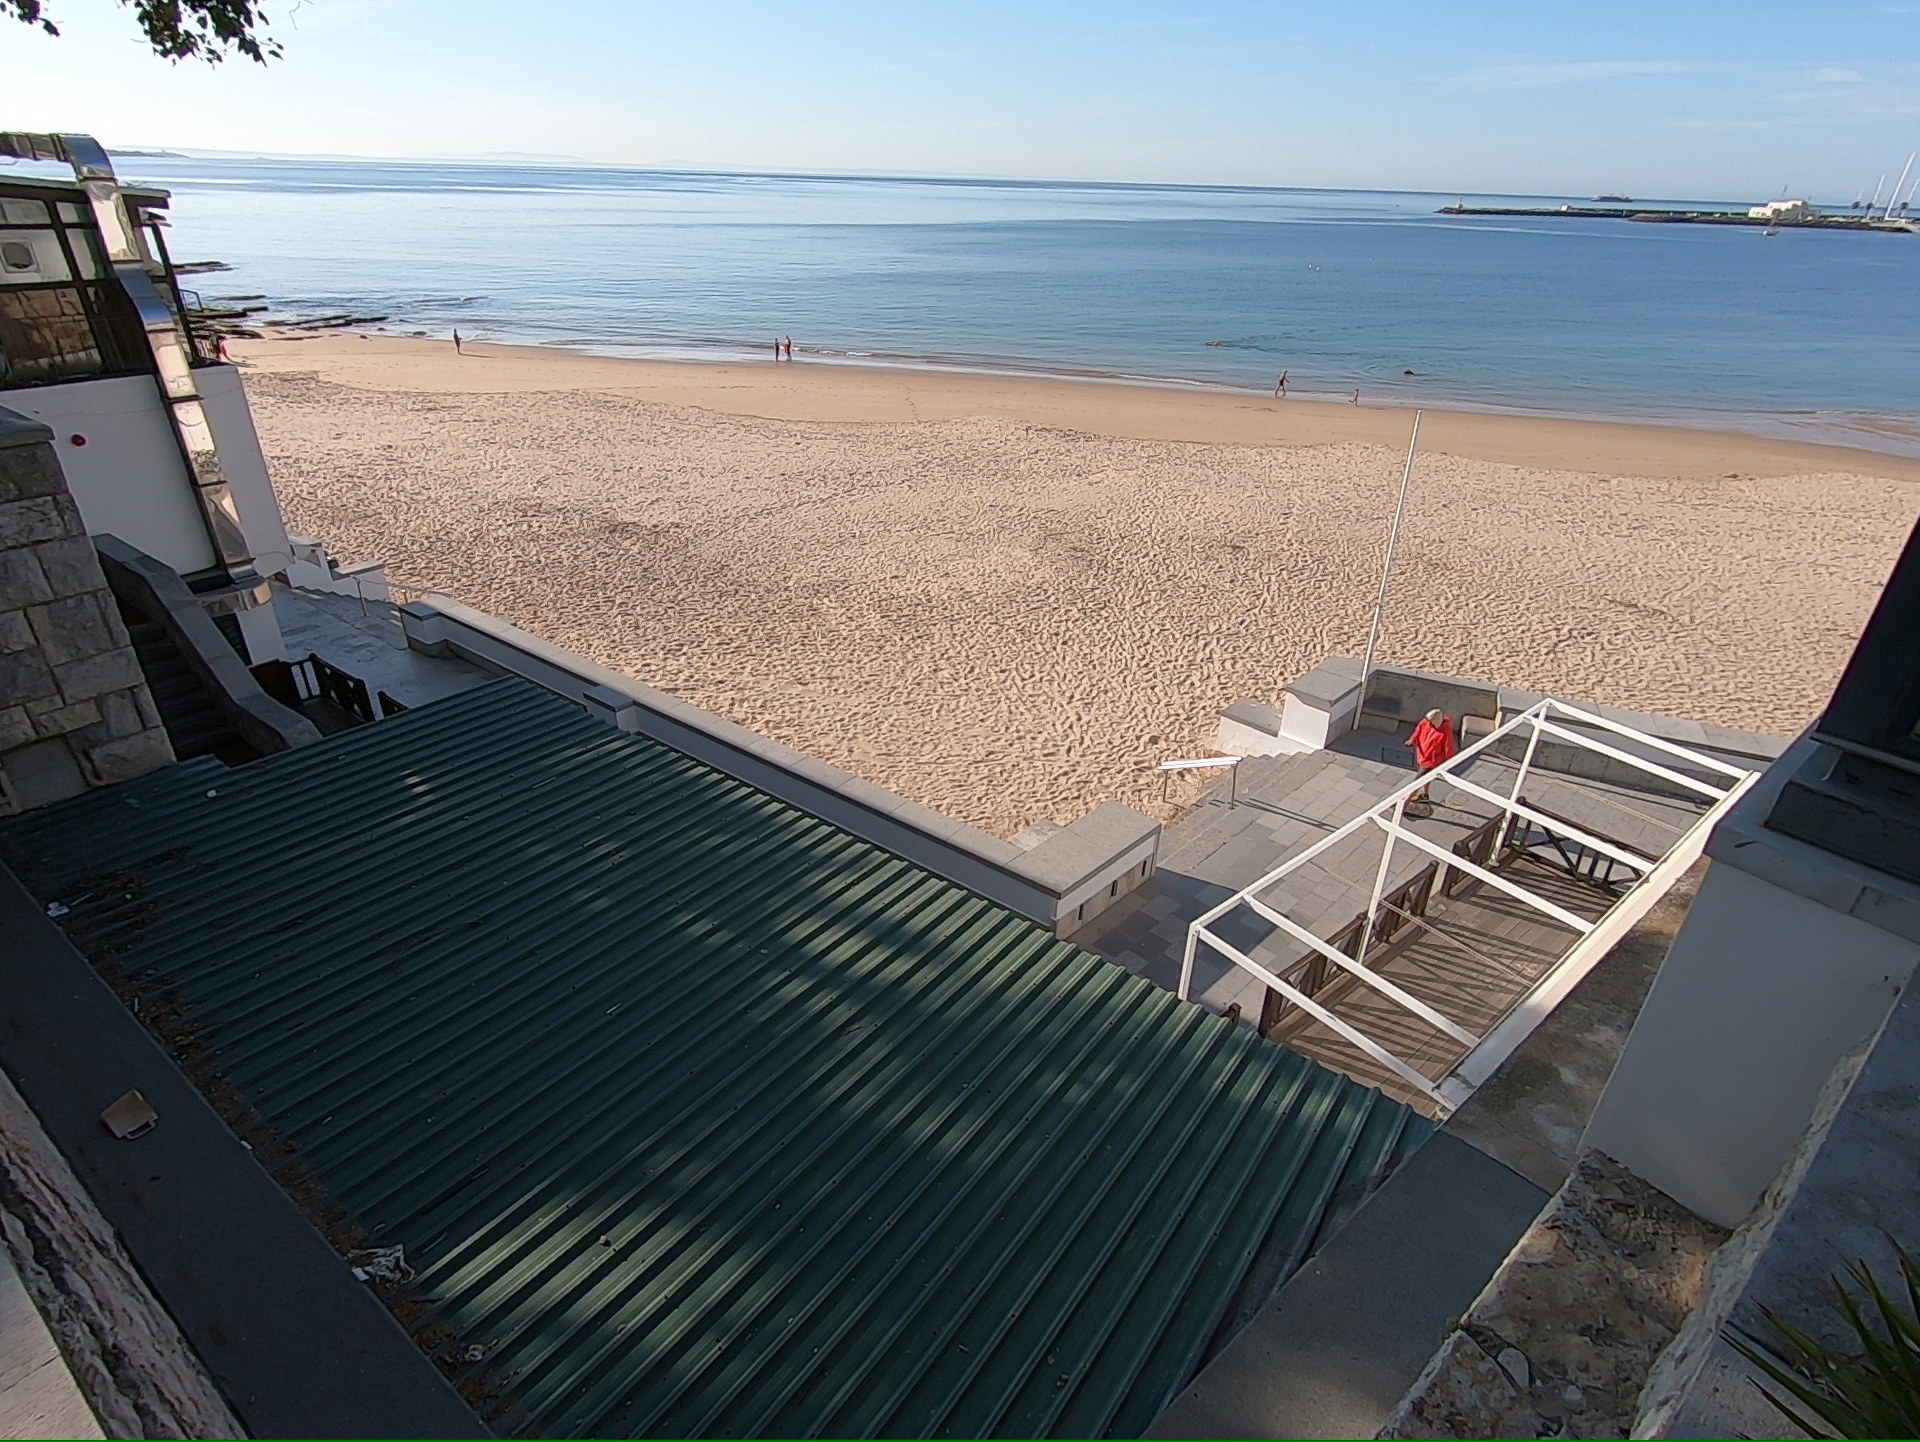person: (1410, 705, 1450, 762), (1274, 369, 1288, 396), (453, 327, 462, 355), (1349, 388, 1359, 405), (784, 333, 791, 361), (774, 336, 779, 362)
